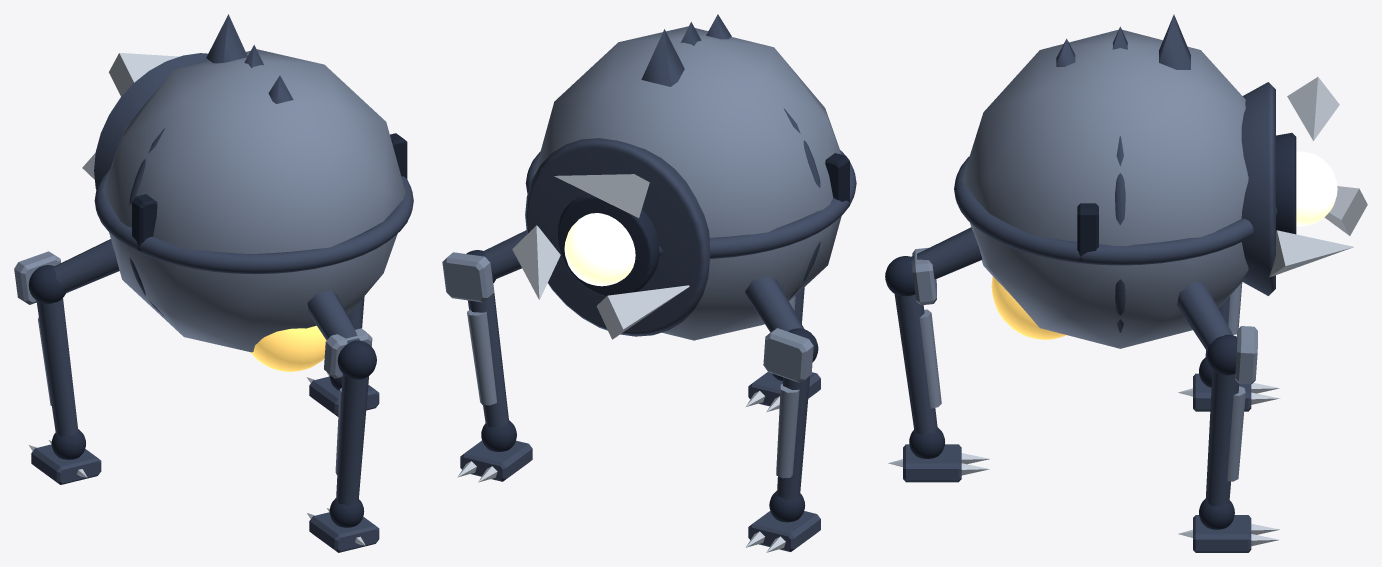
Rendered from enemy_mote.glb.
3 views of the same model, side by side, from view 1: azimuth 30°, elevation 25°; view 2: azimuth 150°, elevation 25°; view 3: azimuth 270°, elevation 25° (orthographic). The views are drawn at different scales.
Visible parts, largest first — view 1: mote_body, mote_body_band, mote_leg1_shin, mote_leg0_shin, mote_collar, mote_sac, mote_leg1_thigh, mote_spine, mote_leg1_sole, mote_leg0_sole, mote_leg0_thigh, mote_jaw0 (+10 smaller); view 2: mote_body, mote_collar, mote_eye_glass, mote_eye_housing, mote_body_band, mote_jaw1, mote_jaw0, mote_leg1_knee_cap, mote_leg2_knee_cap, mote_spine, mote_leg1_thigh, mote_jaw2 (+12 smaller); view 3: mote_body, mote_body_band, mote_collar, mote_leg0_shin, mote_leg2_shin, mote_eye_glass, mote_eye_housing, mote_leg2_thigh, mote_jaw2, mote_leg0_sole, mote_leg0_thigh, mote_leg2_sole (+15 smaller).
Part boxes in pixels (<box>): mote_body: <box>102,49,405,352</box>; mote_body_band: <box>94,169,413,274</box>; mote_leg1_shin: <box>36,298,78,436</box>; mote_leg0_shin: <box>336,373,368,506</box>; mote_collar: <box>94,53,209,189</box>; mote_sac: <box>250,325,326,371</box>; mote_leg1_thigh: <box>53,239,119,293</box>; mote_spine: <box>206,14,293,103</box>; mote_leg1_sole: <box>31,444,101,484</box>; mote_leg0_sole: <box>309,512,379,552</box>; mote_leg0_thigh: <box>307,289,360,343</box>; mote_jaw0: <box>109,53,179,96</box>; mote_body: <box>534,26,841,340</box>; mote_collar: <box>525,138,710,336</box>; mote_eye_glass: <box>564,213,635,286</box>; mote_eye_housing: <box>557,193,659,296</box>; mote_body_band: <box>525,150,856,258</box>; mote_jaw1: <box>596,285,689,339</box>; mote_jaw0: <box>554,174,649,217</box>; mote_leg1_knee_cap: <box>763,328,813,382</box>; mote_leg2_knee_cap: <box>442,252,494,302</box>; mote_spine: <box>641,14,731,86</box>; mote_leg1_thigh: <box>745,275,804,332</box>; mote_jaw2: <box>512,225,560,299</box>; mote_body: <box>962,29,1248,348</box>; mote_body_band: <box>954,156,1277,265</box>; mote_collar: <box>1241,82,1275,295</box>; mote_leg0_shin: <box>894,294,937,434</box>; mote_leg2_shin: <box>1205,369,1239,507</box>; mote_eye_glass: <box>1296,151,1337,226</box>; mote_eye_housing: <box>1276,133,1296,234</box>; mote_leg2_thigh: <box>1177,281,1232,351</box>; mote_jaw2: <box>1269,230,1353,276</box>; mote_leg0_sole: <box>903,444,961,482</box>; mote_leg0_thigh: <box>911,227,982,279</box>; mote_leg2_sole: <box>1193,515,1251,552</box>.
Bounding box in the file's own units: 0.7894 × 0.9436 × 0.8998.
